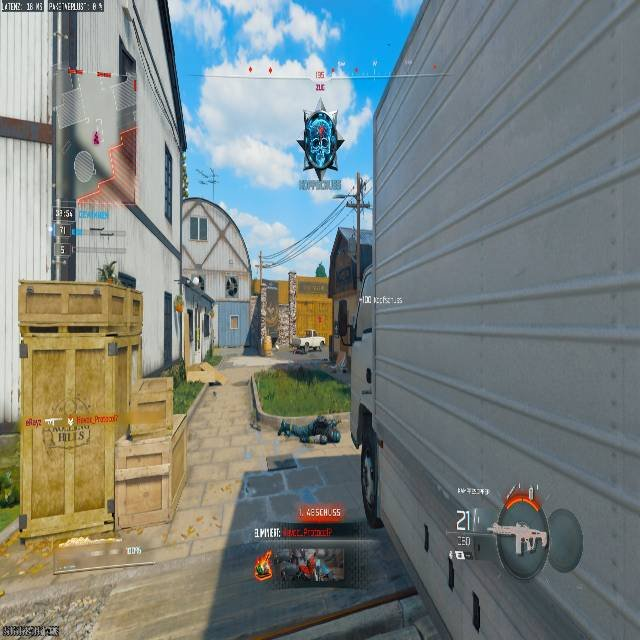head: (330, 429, 340, 443)
player: (225, 275, 237, 296), (316, 262, 326, 277)
